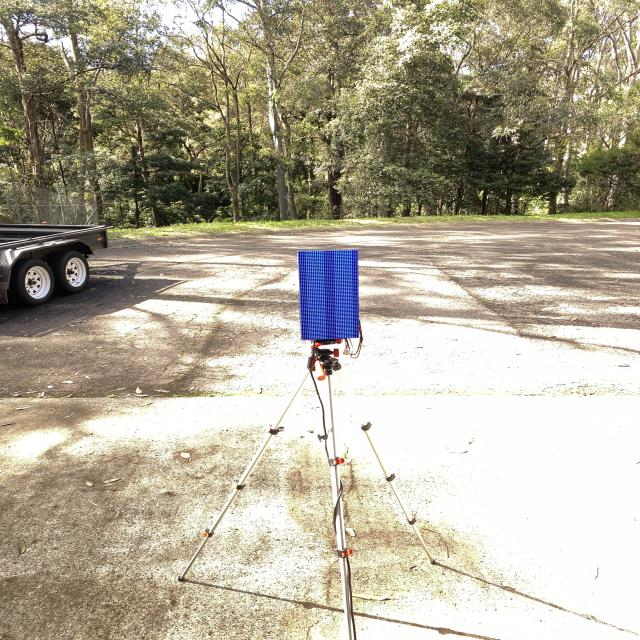matrix: (290, 245, 365, 342)
